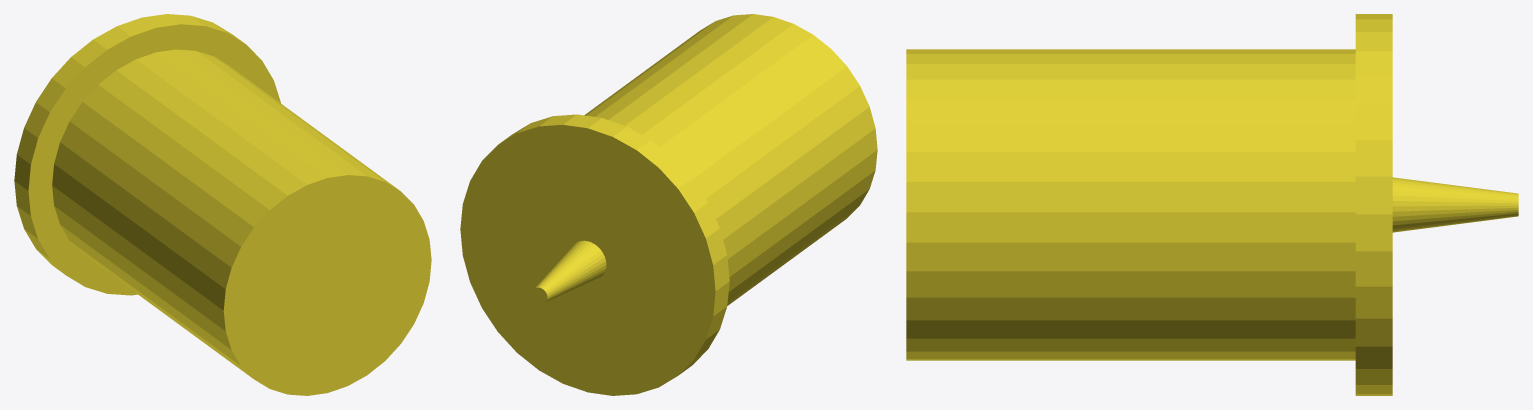
File: mustard_bottle.fbx
The picture shows the model from 3 angles, left to right: view 1: azimuth 30°, elevation 25°; view 2: azimuth 150°, elevation 25°; view 3: azimuth 270°, elevation 25°; orthographic projection. The views are drawn at different scales.
Visible parts, largest first — view 1: Cylinder; view 2: Cylinder; view 3: Cylinder.
Boxes of the visible parts, x1=… form: Cylinder: x1=14, y1=14, x2=431, y2=395; Cylinder: x1=460, y1=14, x2=877, y2=395; Cylinder: x1=906, y1=14, x2=1518, y2=395.
Size of the model in its own units: 169 by 167 by 268.
